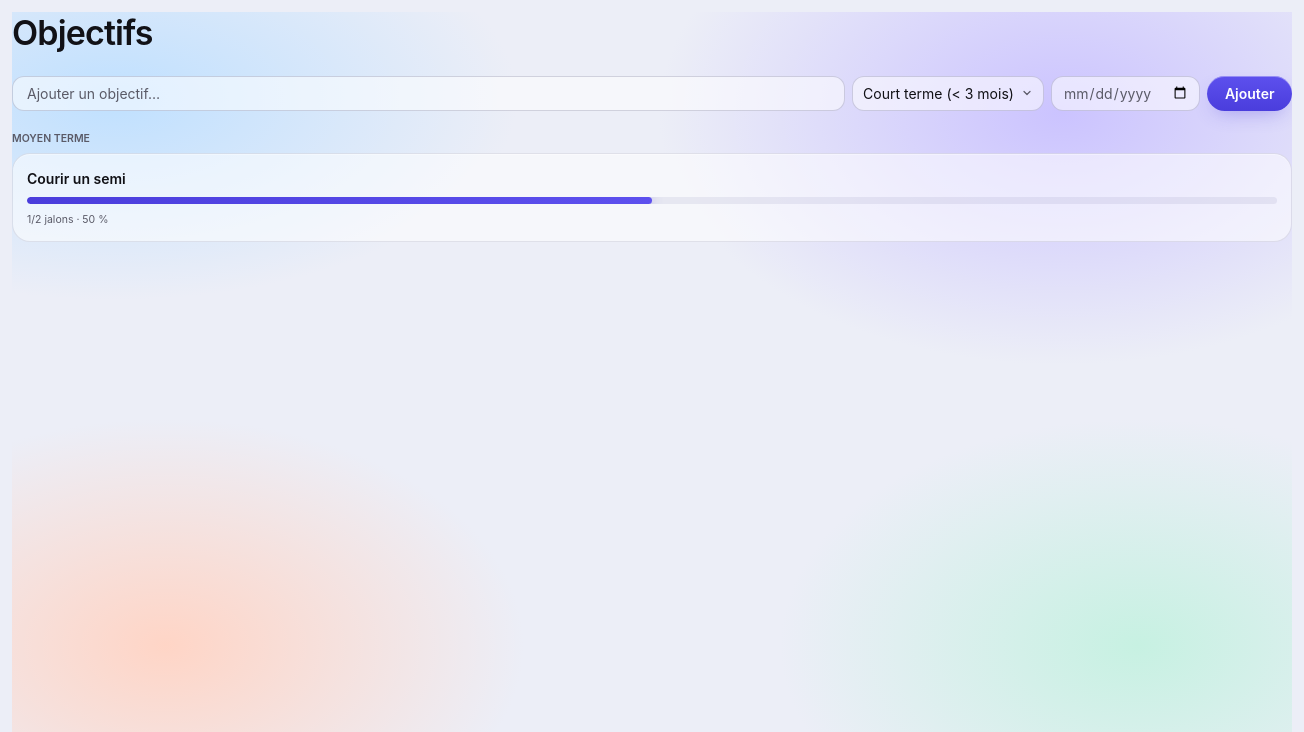
Scenario: GoalsPage › ajoute un objectif dans le bon horizon
Check: the text "Courir un semi" is shown, box left=27, top=168, right=126, bottom=188
Click the dropdown named "Horizon": {"x": 948, "y": 93} left=852, top=76, right=1044, bottom=110
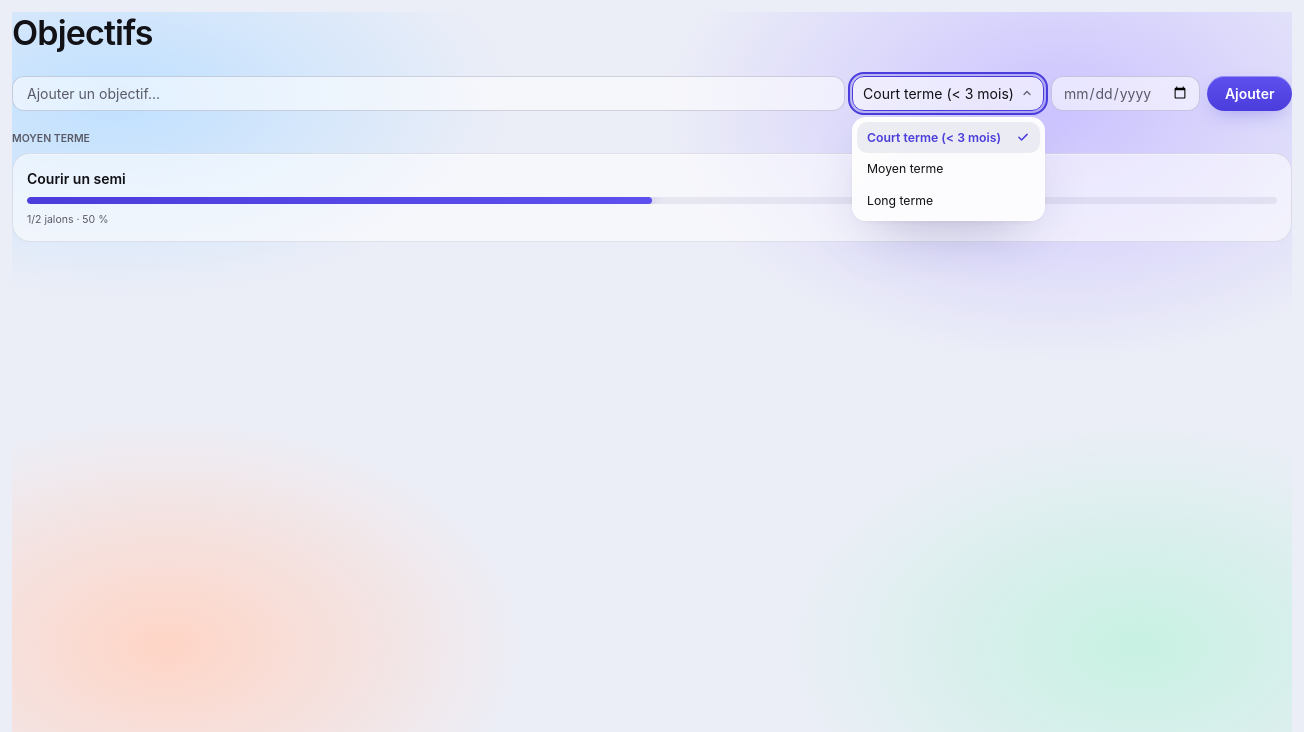
Click the option "Long terme": {"x": 900, "y": 200} left=867, top=192, right=933, bottom=207
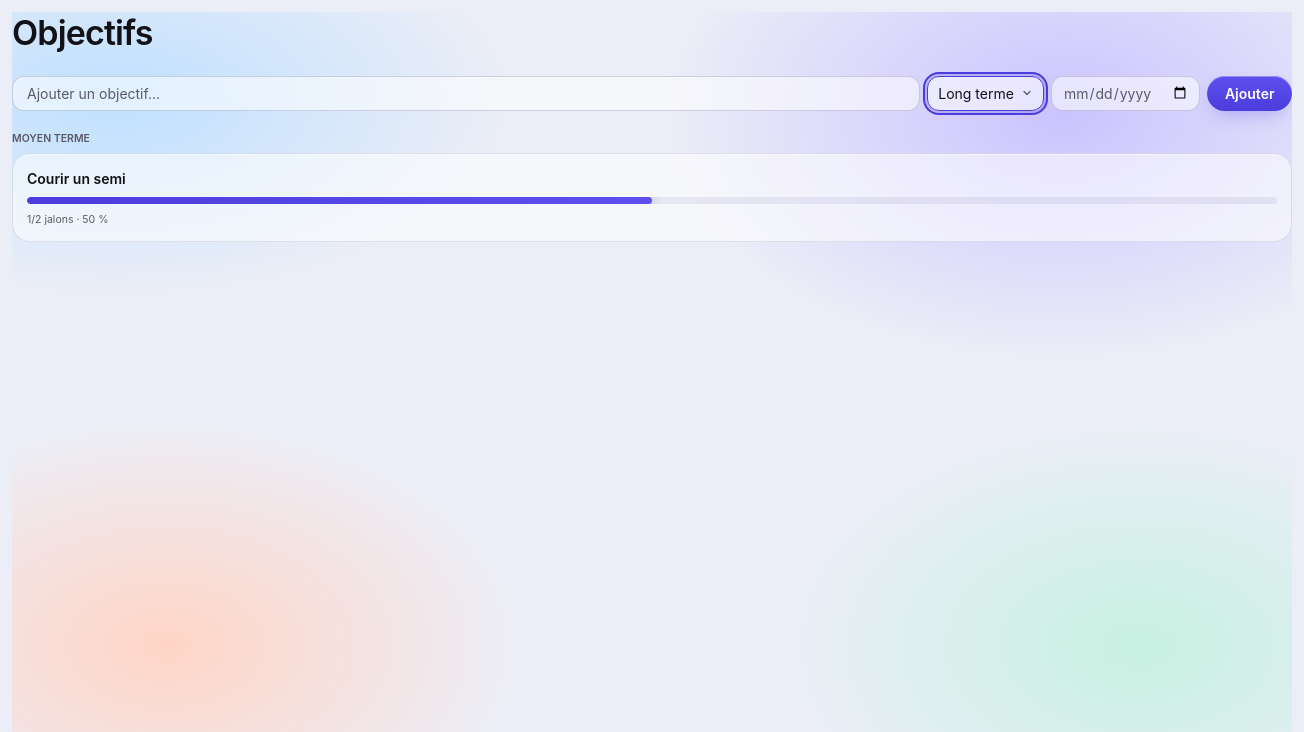
In the field named "Nouvel objectif": {"x": 466, "y": 93} left=12, top=76, right=920, bottom=110, type "Apprendre le piano"
Then press Enter
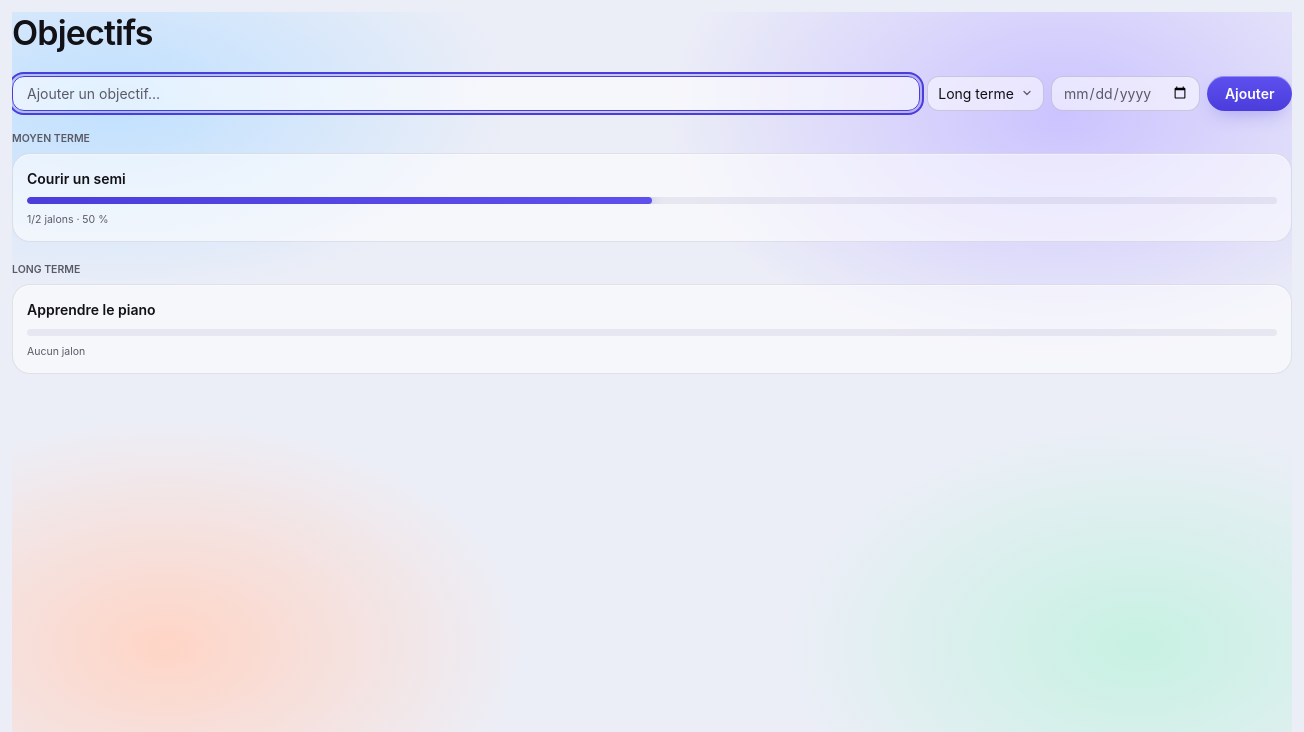
Check: the heading "Long terme" is shown, box left=12, top=263, right=80, bottom=276
